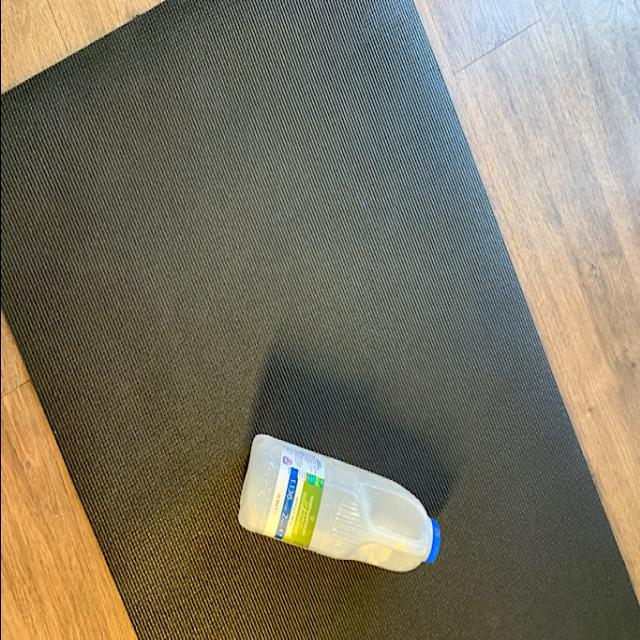HDPEM: (237, 435, 443, 573)
